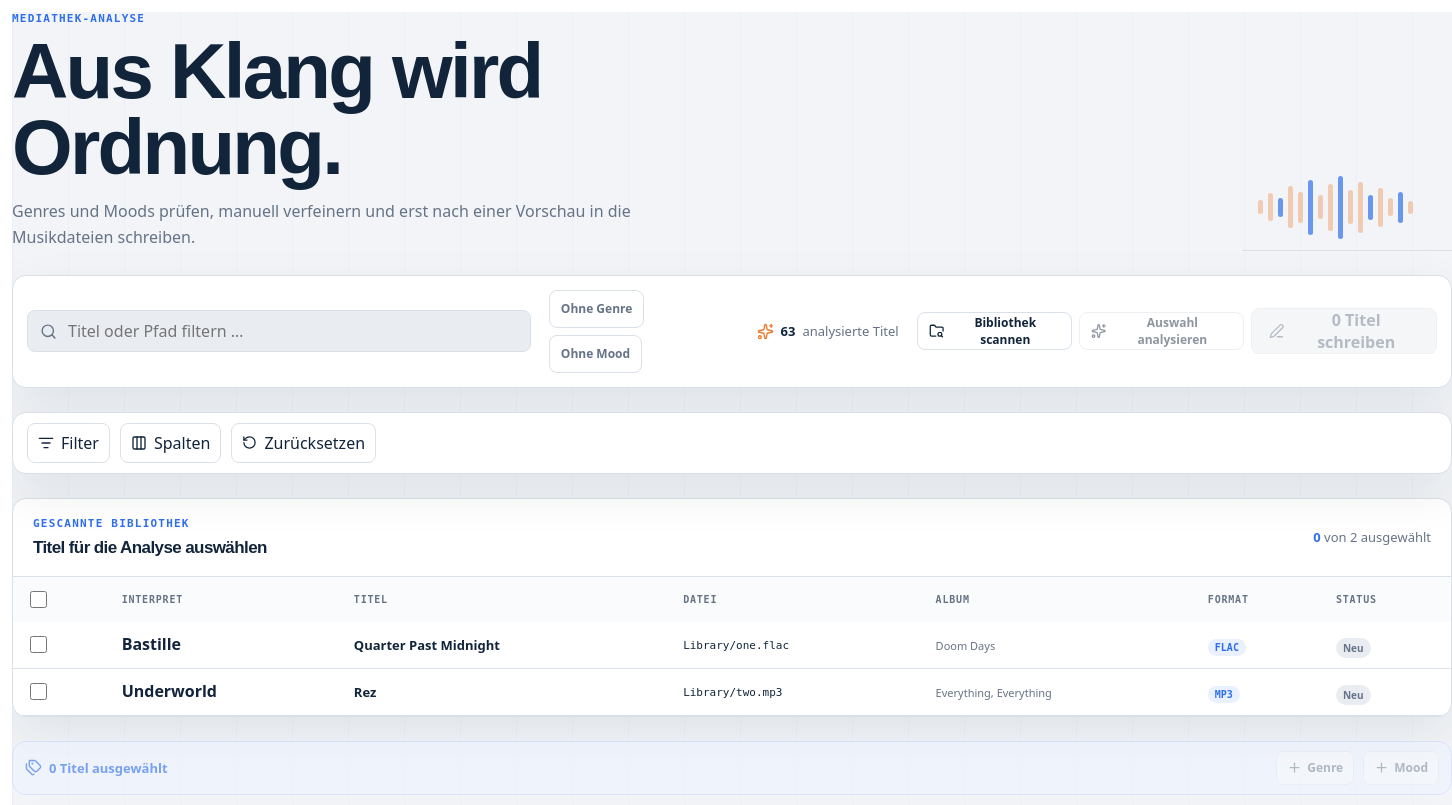
Scenario: shows a filter-specific empty state after success and no empty state after a load error
Expected: the checkbox named "Library/one.flac analysieren" is shown, [30,636,47,653]
Click the button "Ohne Genre" at point(597, 309), box [549,290,644,328]
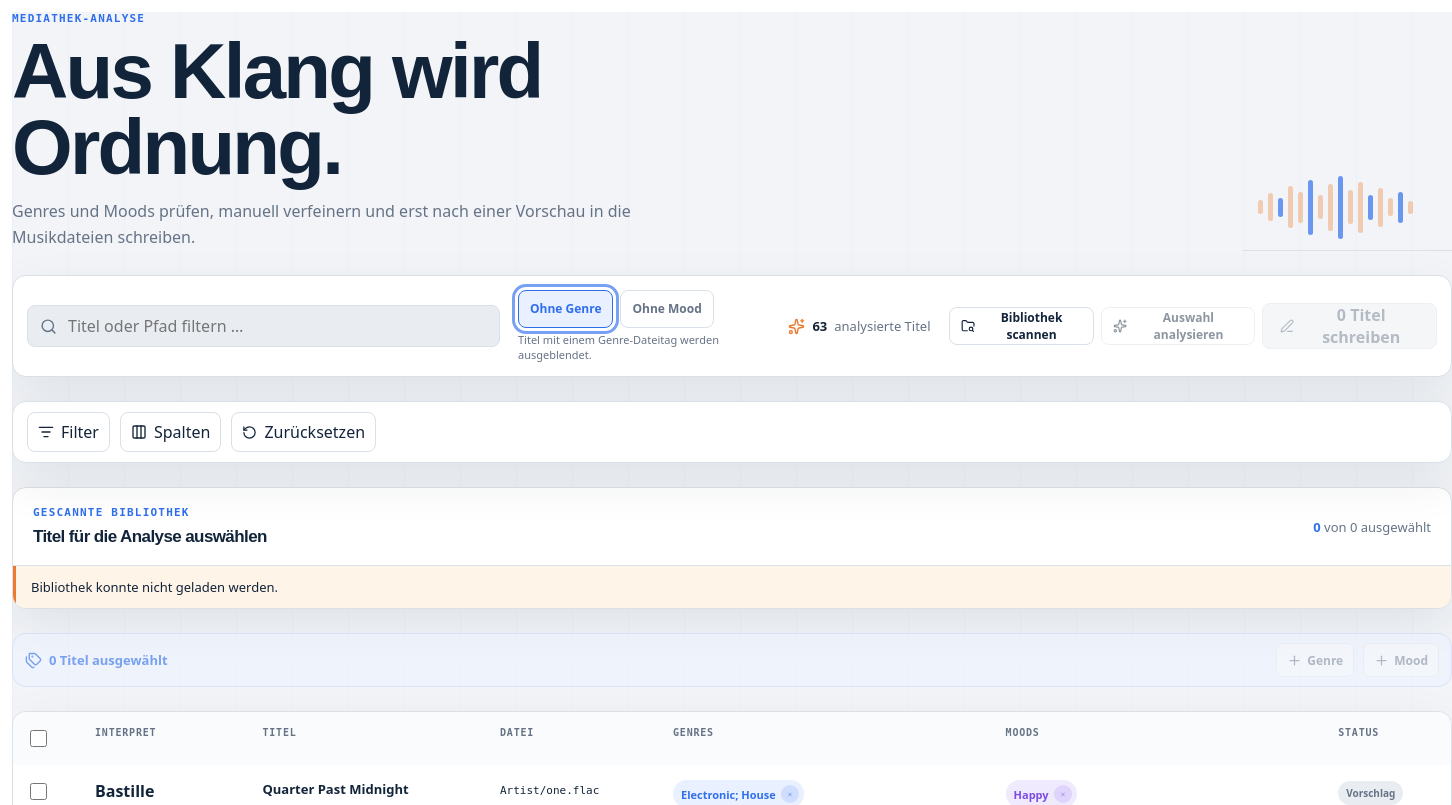
Now the text "Bibliothek konnte nicht geladen werden." is shown, box [13,566,1451,608]
Click the button "Ohne Mood" at point(667, 309), box [620,290,714,328]
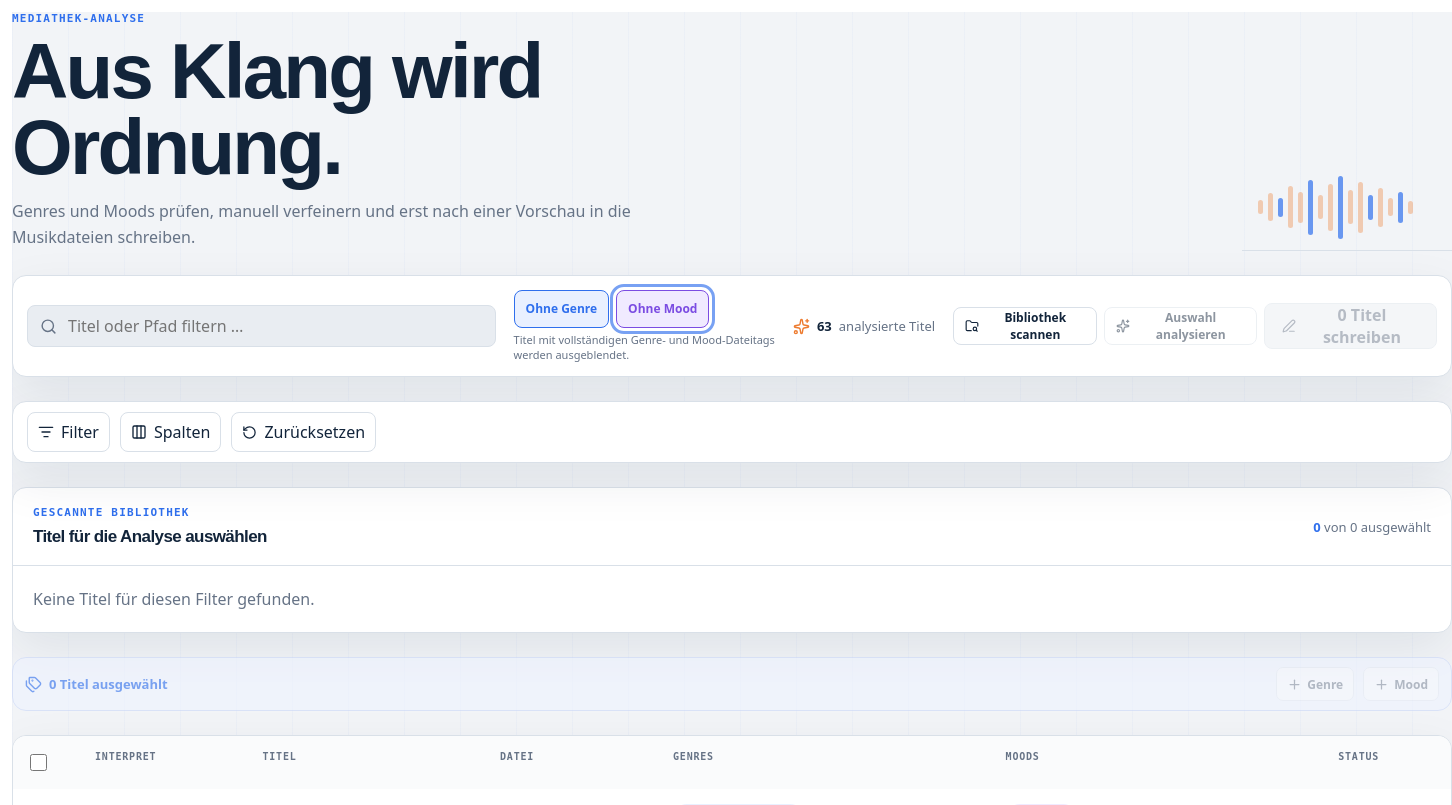
Now the text "Keine Titel für diesen Filter gefunden." is shown, box [33,588,314,610]
Now the text "Bibliothek konnte nicht geladen werden." is gone
